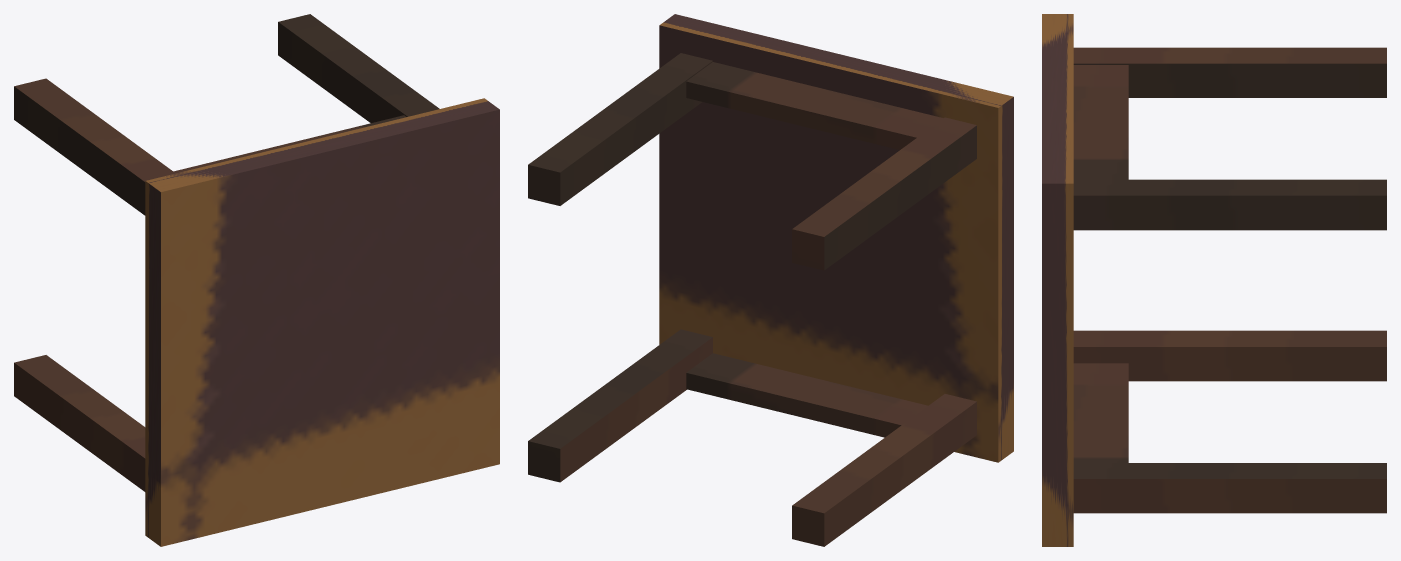
Rendered from pz_table_tables_high_01_fancy_table.obj.
The picture shows the model from 3 angles, left to right: view 1: azimuth 30°, elevation 25°; view 2: azimuth 150°, elevation 25°; view 3: azimuth 270°, elevation 25°; orthographic projection. The views are drawn at different scales.
Bounding box in the file's own units: 0.95 × 0.95 × 0.8165.
1 material, 1 textured.
